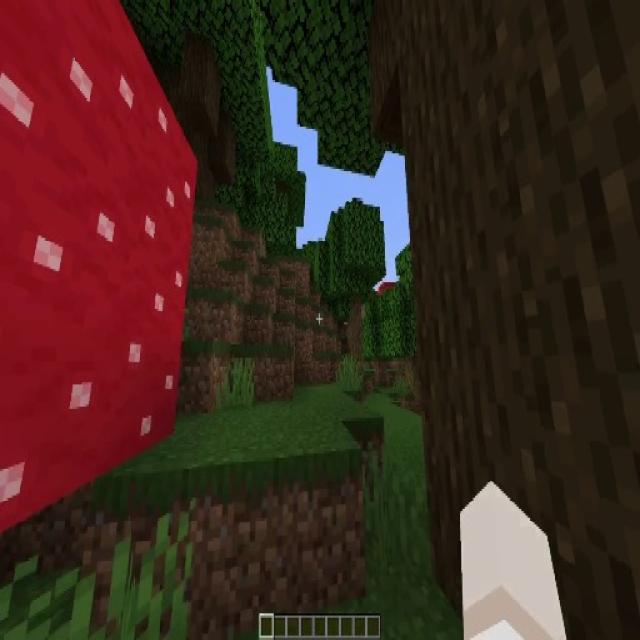dark_oak_log: (406, 14, 640, 503)
oak: (316, 200, 388, 382)
oak_log: (351, 309, 364, 376)
